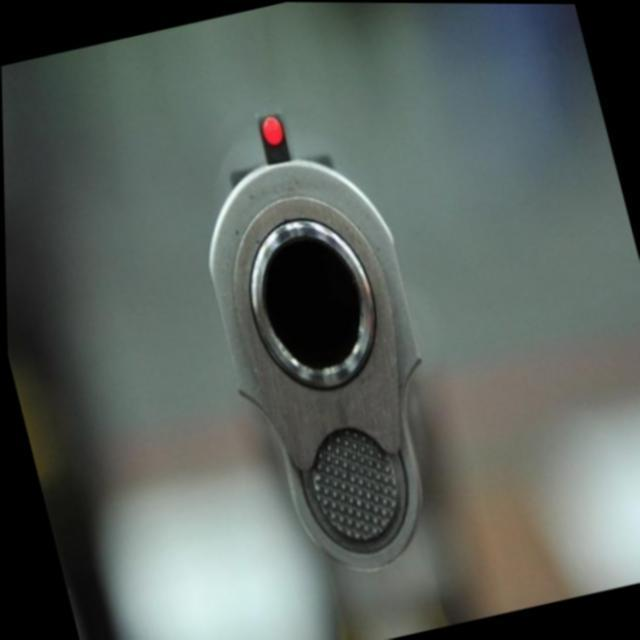weapon: (170, 90, 488, 640)
